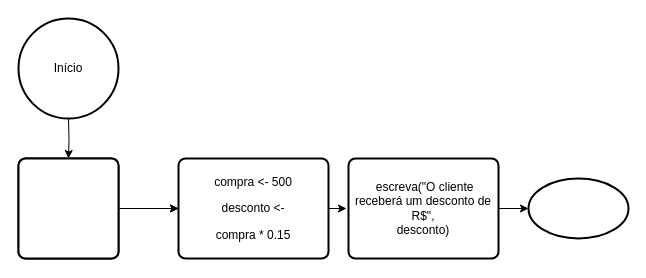
The diagram is 646 pixels wide and 278 high, and some of its shapes have lost their labels. Each missing label, with the centre of its shape:
FimAlgoritmo: (x=578, y=208)
var compra, desconto: real: (x=68, y=208)
